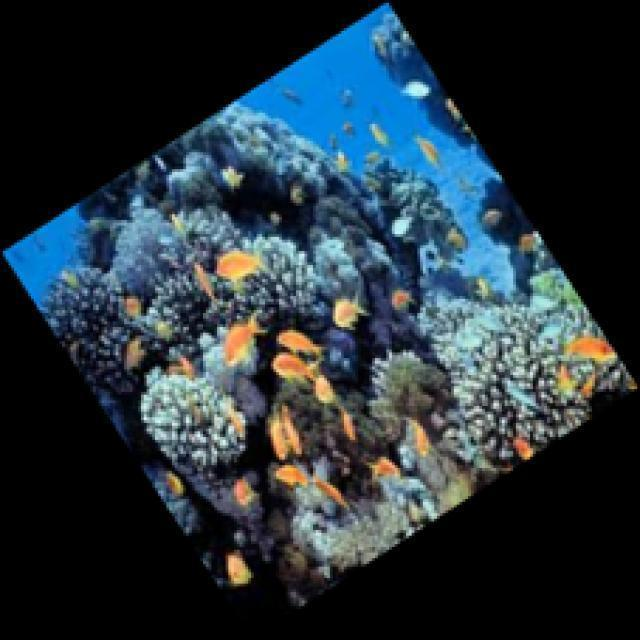Dead Coral: (34, 265, 129, 348)
